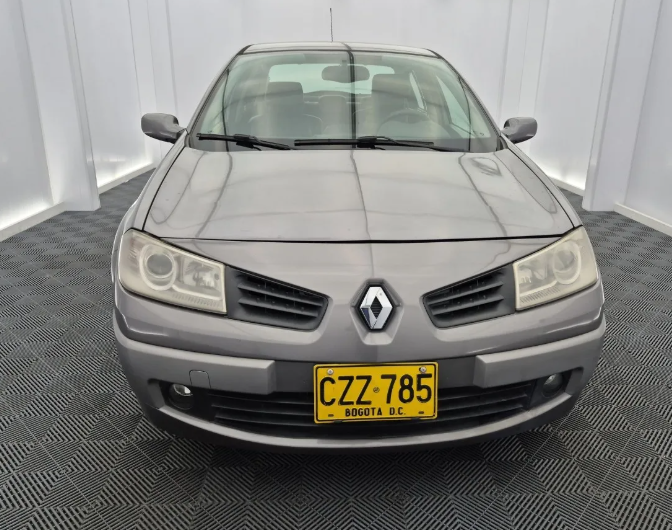placa: (312, 363, 441, 418)
